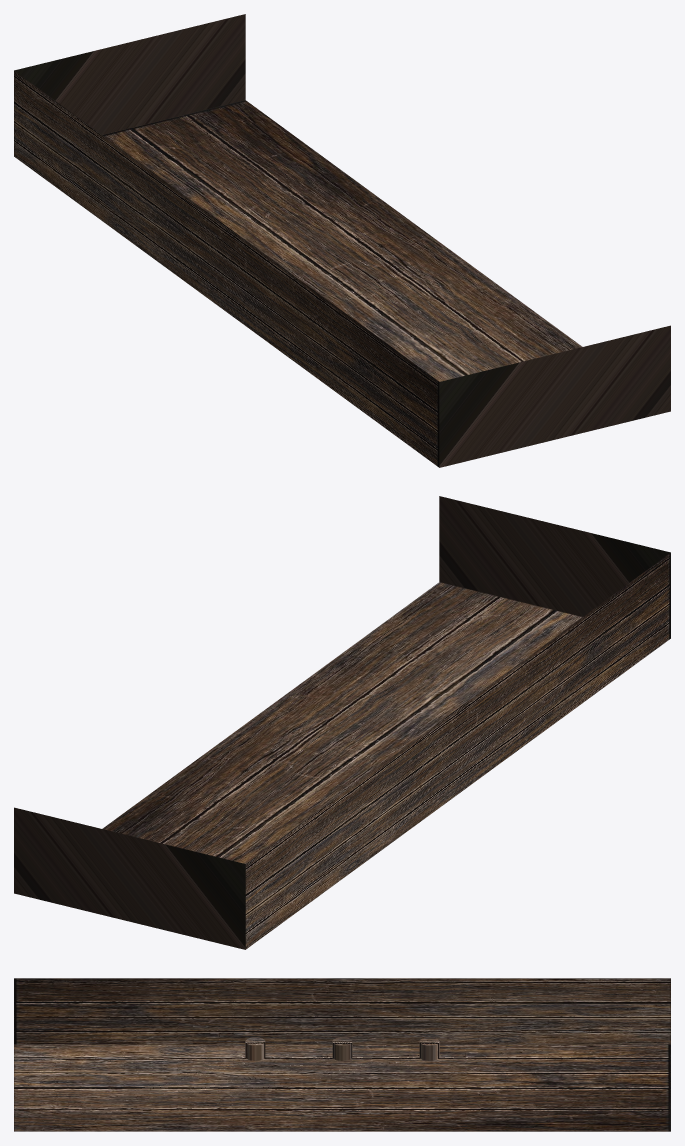
The picture shows the model from 3 angles, top to bottom: view 1: azimuth 30°, elevation 25°; view 2: azimuth 150°, elevation 25°; view 3: azimuth 270°, elevation 25°; orthographic projection. The views are drawn at different scales.
Visible parts, largest first — view 1: Box024; view 2: Box024; view 3: Box024.
Part boxes in pixels (x1=…): Box024: x1=14, y1=14, x2=670, y2=467; Box024: x1=14, y1=496, x2=670, y2=949; Box024: x1=14, y1=978, x2=670, y2=1131.
Bounding box in the file's own units: 94.8 × 33.65 × 302.
